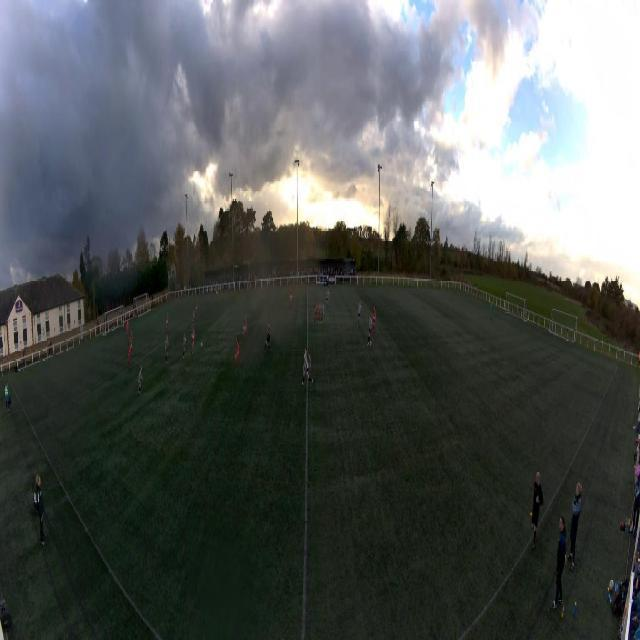ball: (201, 342, 203, 347)
player: (301, 347, 315, 387), (367, 314, 373, 348), (138, 365, 144, 397), (234, 336, 240, 368), (265, 322, 271, 353), (314, 303, 322, 325), (164, 336, 169, 364), (182, 333, 187, 360), (372, 306, 377, 332), (242, 315, 247, 341), (357, 301, 362, 326), (191, 326, 195, 354), (127, 344, 131, 368), (165, 312, 169, 333), (130, 330, 134, 351), (321, 301, 325, 322), (289, 287, 293, 307), (326, 289, 330, 308), (192, 310, 195, 328), (195, 301, 198, 316), (490, 303, 492, 320), (127, 319, 129, 335), (247, 283, 249, 298)
